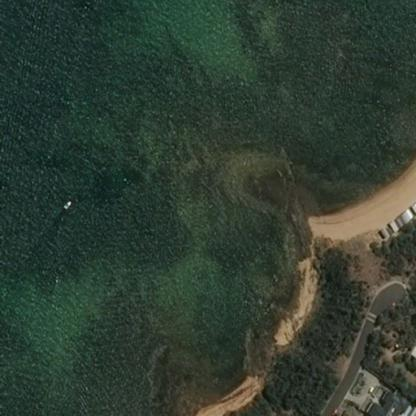ship: (62, 35, 70, 43)
